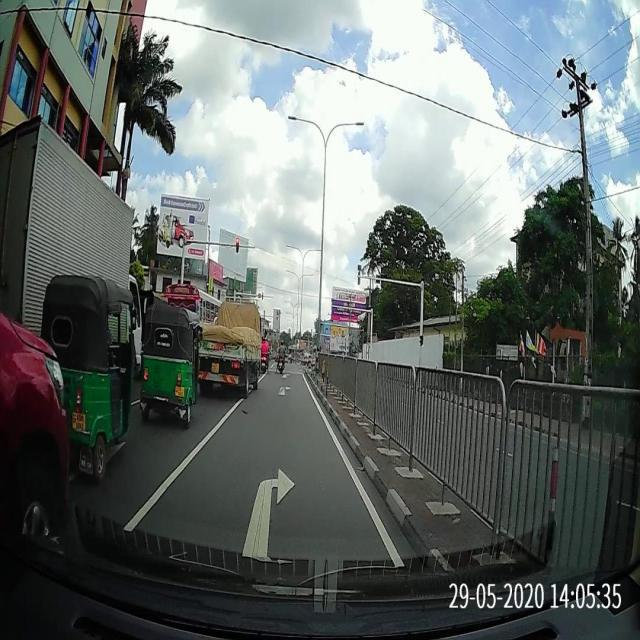Strelka vpravo: (242, 467, 295, 557)
